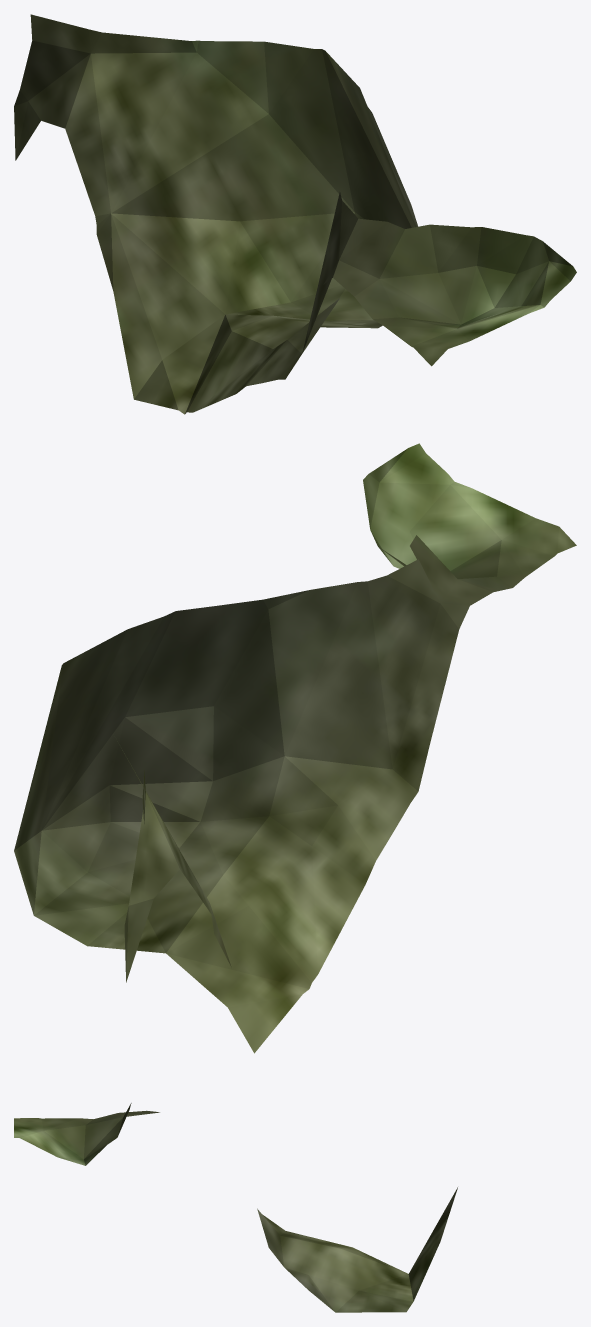
The picture shows the model from 3 angles, top to bottom: view 1: azimuth 30°, elevation 25°; view 2: azimuth 150°, elevation 25°; view 3: azimuth 270°, elevation 25°; orthographic projection. The views are drawn at different scales.
Bounding box in the file's own units: 0.6001 × 0.7193 × 1.76.
1 material, 1 textured.
